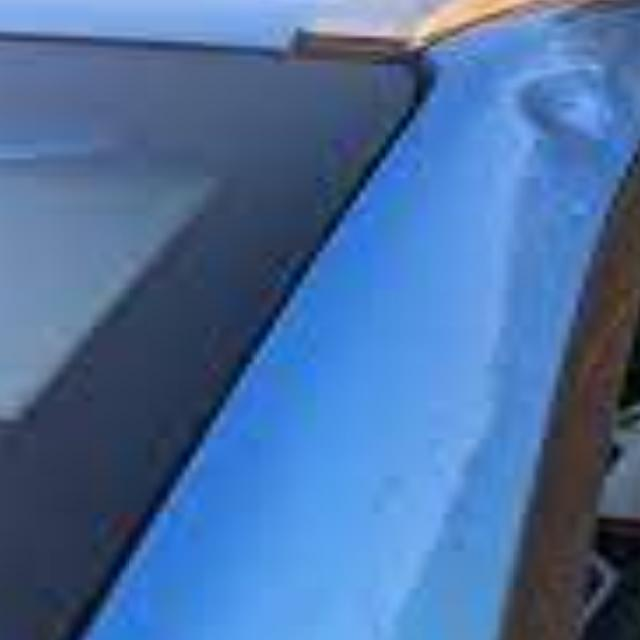dents: (482, 51, 640, 178)
